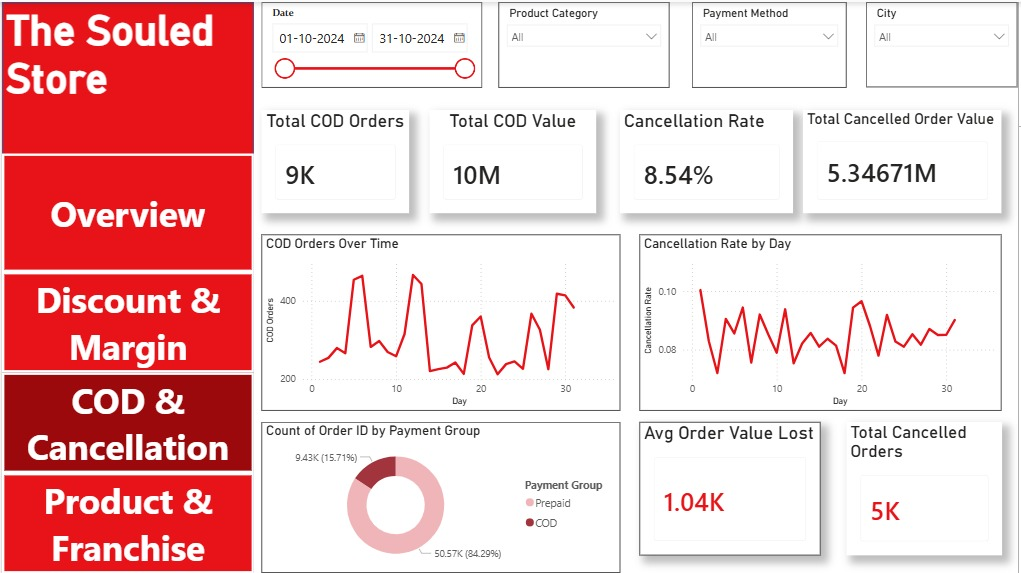

What the dashboard file says about the page in this screenshot:
{"tool":"powerbi","page":{"name":"COD & Cancellation","canvas":[1280,720],"ordinal":2},"visuals":[{"type":"group","id":"g1","title":"Group 1","box":[0,0,317.5,720],"z":0},{"type":"shape","box":[0,0,317.5,720],"z":0,"group":"g1"},{"type":"slicer","fields":{"Values":["SOULED_STORE.Date"]},"box":[326.9,0,277.8,107.7],"z":1000},{"type":"actionButton","box":[0,593.4,317.5,126.6],"z":1000,"group":"g1"},{"type":"slicer","fields":{"Values":["SOULED_STORE.Product Category"]},"box":[625.5,0,215.4,107.7],"z":2000},{"type":"actionButton","box":[0,466.8,317.5,126.6],"z":2000,"group":"g1"},{"type":"slicer","fields":{"Values":["SOULED_STORE.Payment Method"]},"box":[869.3,0,194.6,107.7],"z":3000},{"type":"actionButton","box":[0,340.2,317.5,126.6],"z":3000,"group":"g1"},{"type":"slicer","fields":{"Values":["SOULED_STORE.City"]},"box":[1088.9,0,190.7,107.4],"z":4000},{"type":"actionButton","box":[0,190.9,317.5,149.3],"z":4000,"group":"g1"},{"type":"textbox","box":[0,0,317.5,213.5],"z":5000,"group":"g1"},{"type":"cardVisual","title":"Total COD Orders","fields":{"Data":["SOULED_STORE.COD Orders"]},"box":[326,136,186,130],"z":5000},{"type":"cardVisual","title":"Total COD Value","fields":{"Data":["SOULED_STORE.COD Order Value"]},"box":[538,136,210,130],"z":6000},{"type":"cardVisual","title":"Cancellation Rate","fields":{"Data":["SOULED_STORE.Cancellation Rate"]},"box":[778,136,218,130],"z":7000},{"type":"cardVisual","title":"Total Cancelled Order Value","fields":{"Data":["SOULED_STORE.Cancelled Order Value"]},"box":[1010,136,250,130],"z":8000},{"type":"lineChart","title":"COD Orders Over Time","fields":{"Category":["SOULED_STORE.Date.Variation.Date Hierarchy.Day"],"Y":["SOULED_STORE.COD Orders"]},"box":[326,292,452,222],"z":9000},{"type":"lineChart","fields":{"Category":["SOULED_STORE.Date.Variation.Date Hierarchy.Day"],"Y":["SOULED_STORE.Cancellation Rate"]},"box":[804,292,456,222],"z":10000},{"type":"donutChart","fields":{"Y":["CountNonNull(SOULED_STORE.Order ID)"],"Category":["SOULED_STORE.Payment Group"]},"box":[326,530,452,190],"z":11000},{"type":"cardVisual","title":"Avg Order Value Lost","fields":{"Data":["SOULED_STORE.Avg Order Value Lost"]},"box":[804,530,228,168],"z":12000},{"type":"cardVisual","title":"Total Cancelled Orders","fields":{"Data":["SOULED_STORE.Cancelled Orders"]},"box":[1064,530,196,168],"z":13000}]}

Visuals, with their boxes in screenshot pixels (x1, y1, x2, y2), scaled from the page's 1280x720 canvas onto the 1021x573 screenshot:
"Group 1" group: rect(0, 0, 253, 572)
shape: rect(0, 0, 253, 572)
slicer - SOULED_STORE.Date: rect(261, 0, 482, 86)
actionButton: rect(0, 472, 253, 572)
slicer - SOULED_STORE.Product Category: rect(499, 0, 671, 86)
actionButton: rect(0, 371, 253, 472)
slicer - SOULED_STORE.Payment Method: rect(693, 0, 849, 86)
actionButton: rect(0, 271, 253, 371)
slicer - SOULED_STORE.City: rect(869, 0, 1020, 85)
actionButton: rect(0, 152, 253, 271)
textbox: rect(0, 0, 253, 170)
"Total COD Orders" cardVisual: rect(260, 108, 408, 212)
"Total COD Value" cardVisual: rect(429, 108, 597, 212)
"Cancellation Rate" cardVisual: rect(621, 108, 794, 212)
"Total Cancelled Order Value" cardVisual: rect(806, 108, 1005, 212)
"COD Orders Over Time" lineChart: rect(260, 232, 621, 409)
lineChart - SOULED_STORE.Date.Variation.Date Hierarchy.Day x SOULED_STORE.Cancellation Rate: rect(641, 232, 1005, 409)
donutChart - CountNonNull(SOULED_STORE.Order ID) x SOULED_STORE.Payment Group: rect(260, 422, 621, 572)
"Avg Order Value Lost" cardVisual: rect(641, 422, 823, 555)
"Total Cancelled Orders" cardVisual: rect(849, 422, 1005, 555)
